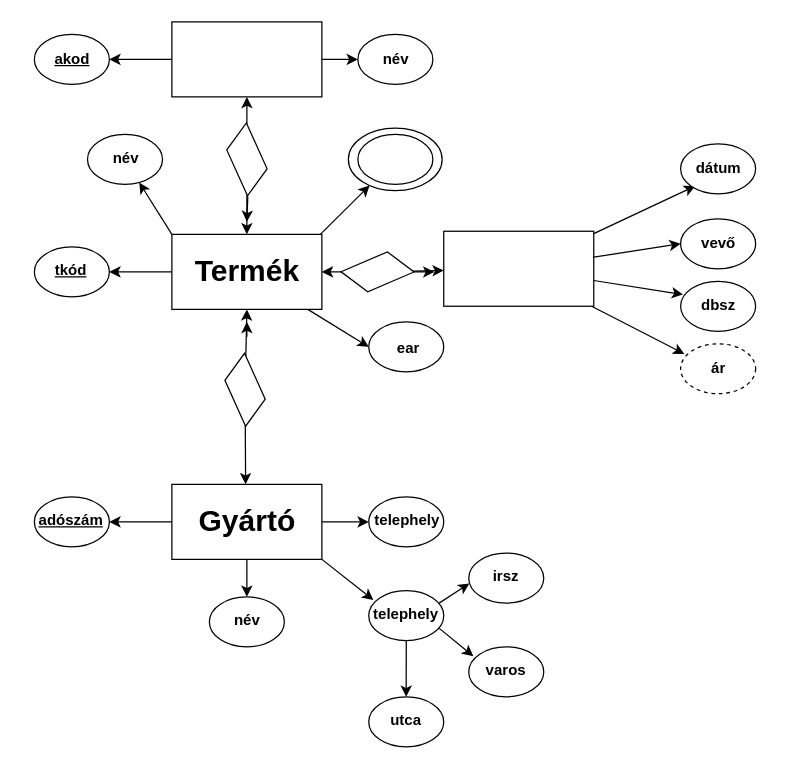
The diagram is 801 pixels wide and 769 high, and some of its shapes have lost their labels. The shapes that lost their labels are listed below. From the top down, each one's centre as x and y in pixels, then its label:
At (246,59): "Alkatrész".
At (246,158): "A_T".
At (395,158): "csedb".
At (377,271): "T_R".
At (518,268): "Rendelés".
At (244,389): "T_GY".
